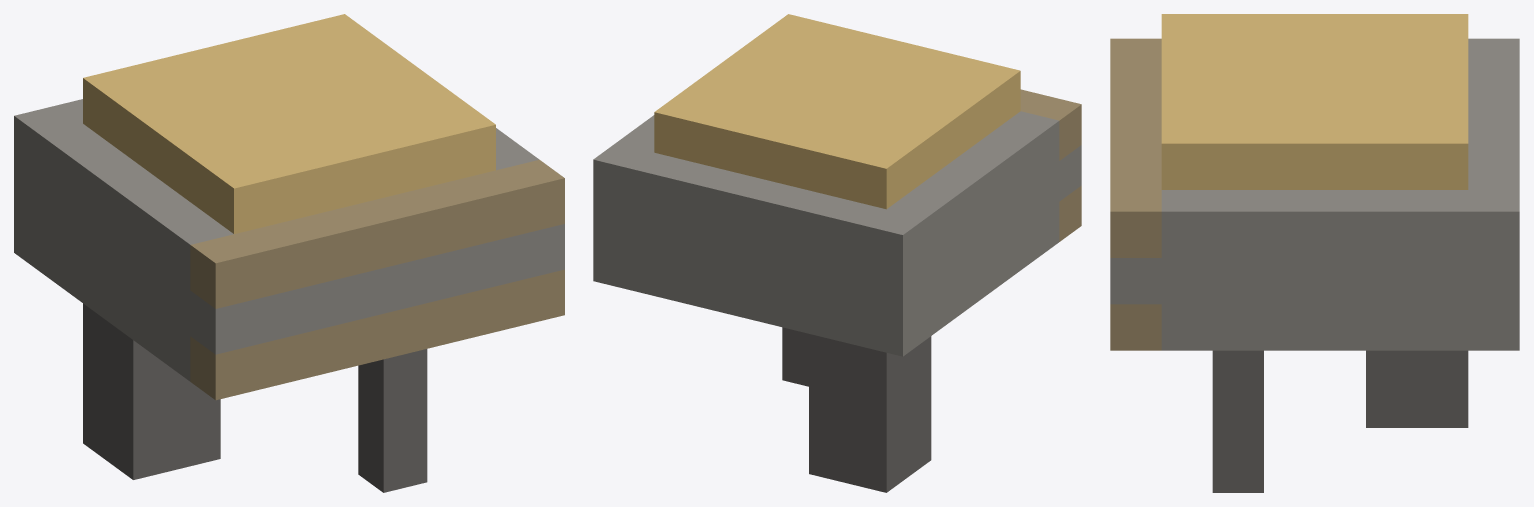
File: brasero_bronce_01.glb
3 renders of one model, left to right at view 1: azimuth 30°, elevation 25°; view 2: azimuth 150°, elevation 25°; view 3: azimuth 270°, elevation 25°, orthographic. The views are drawn at different scales.
Visible parts, largest first — view 1: brasero_bronce; view 2: brasero_bronce; view 3: brasero_bronce.
Boxes of the visible parts, x1,y1,x2,y2 form: brasero_bronce: (14,14,564,492); brasero_bronce: (593,14,1081,492); brasero_bronce: (1110,14,1519,492).
Bounding box in the file's own units: 0.5714 × 0.5714 × 0.5714.
